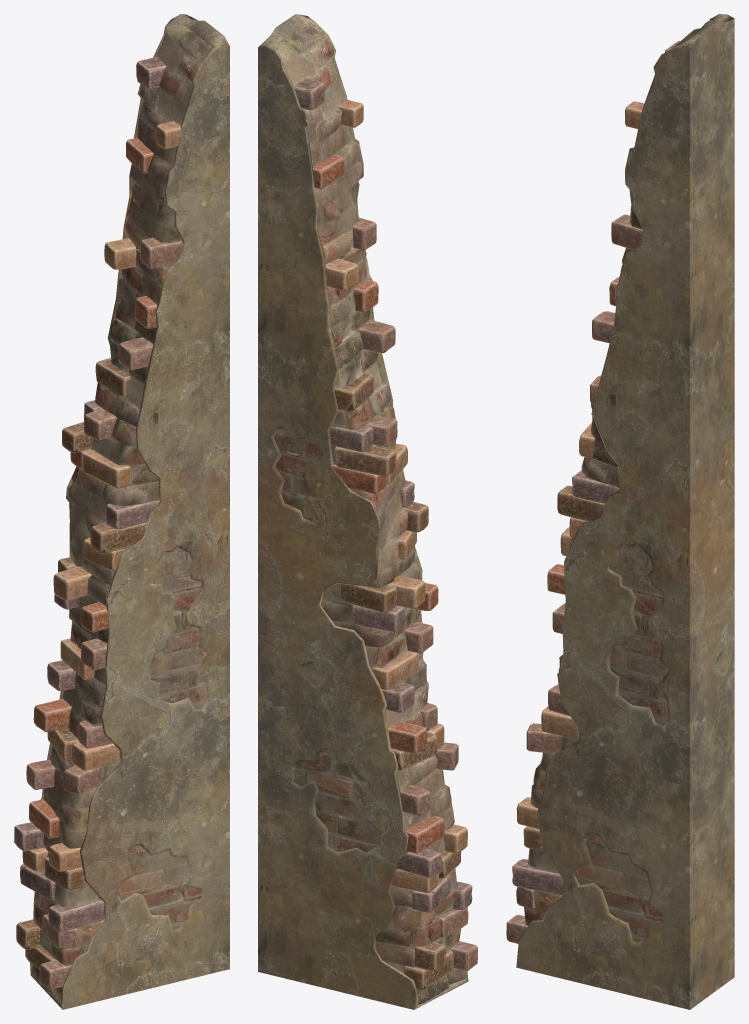
3 renders of one model, left to right at view 1: azimuth 30°, elevation 25°; view 2: azimuth 150°, elevation 25°; view 3: azimuth 330°, elevation 25°, orthographic. The views are drawn at different scales.
Visible parts, largest first — view 1: SM_Human_Ruins_Pllar_04_LOD0; view 2: SM_Human_Ruins_Pllar_04_LOD0; view 3: SM_Human_Ruins_Pllar_04_LOD0.
Part boxes in pixels (<box>): SM_Human_Ruins_Pllar_04_LOD0: <box>14,14,229,1009</box>; SM_Human_Ruins_Pllar_04_LOD0: <box>258,14,477,1009</box>; SM_Human_Ruins_Pllar_04_LOD0: <box>506,14,734,1009</box>.
Size of the model in its own units: 1.21 by 6 by 0.5465.
Materials: 3 (3 with a texture image).
